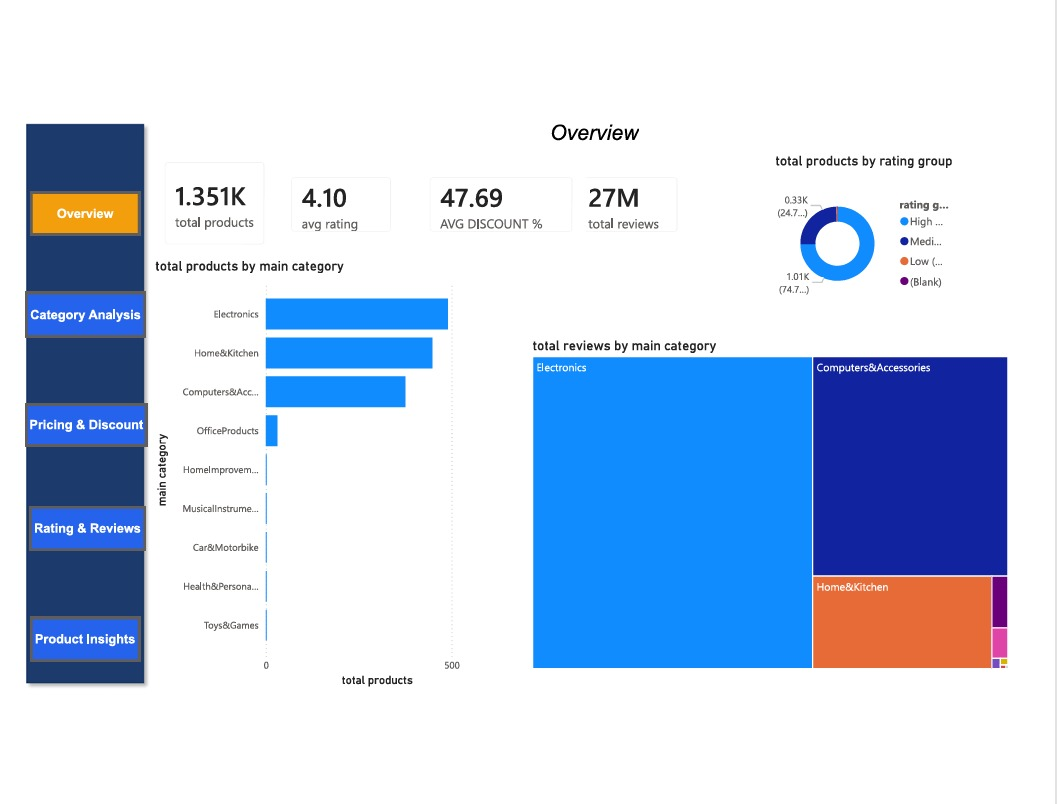

Layout of this report page (visuals, bound fields, positions):
{"tool":"powerbi","page":{"name":"Overview","canvas":[1280,720],"ordinal":0},"visuals":[{"type":"shape","box":[0,0,165.7,720],"z":0},{"type":"actionButton","box":[13.8,93.7,138.3,55.3],"z":1000},{"type":"actionButton","box":[8,219.8,151.3,57.3],"z":2000},{"type":"actionButton","box":[8,360,152.9,54.2],"z":3000},{"type":"actionButton","box":[12.7,489,146.5,55.8],"z":4000},{"type":"actionButton","box":[13.8,628.3,138.3,55.3],"z":5000},{"type":"shape","box":[165,0,1115,39.8],"z":6000},{"type":"cardVisual","fields":{"Data":["amazon.total reviews"]},"box":[685,58.9,159.3,101.9],"z":7000},{"type":"cardVisual","fields":{"Data":["amazon.AVG DISCOUNT %"]},"box":[498.6,58.9,213.5,101.9],"z":8000},{"type":"cardVisual","fields":{"Data":["amazon.avg rating"]},"box":[325,58.9,159.3,101.9],"z":9000},{"type":"cardVisual","fields":{"Data":["amazon.total products"]},"box":[165.7,39.8,159.3,137],"z":10000},{"type":"clusteredBarChart","fields":{"Category":["amazon.main category"],"Y":["amazon.total products"]},"box":[165.7,176.8,439.6,543.2],"z":11000},{"type":"donutChart","fields":{"Category":["amazon.rating group"],"Y":["amazon.total products"]},"box":[944.6,44.6,234.2,210.3],"z":12000},{"type":"treemap","fields":{"Values":["amazon.total reviews"],"Group":["amazon.main category"]},"box":[640.4,277.2,606.9,420.5],"z":13000}]}

Visuals, with their boxes on the page's 1280x720 design canvas (x1, y1, x2, y2). These are canvas units, not pixel positions in the 1057x804 screenshot, which may show the page scaled, cropped or inside an application window:
shape: 0/0/166/720
actionButton: 14/94/152/149
actionButton: 8/220/159/277
actionButton: 8/360/161/414
actionButton: 13/489/159/545
actionButton: 14/628/152/684
shape: 165/0/1280/40
cardVisual - amazon.total reviews: 685/59/844/161
cardVisual - amazon.AVG DISCOUNT %: 499/59/712/161
cardVisual - amazon.avg rating: 325/59/484/161
cardVisual - amazon.total products: 166/40/325/177
clusteredBarChart - amazon.main category x amazon.total products: 166/177/605/720
donutChart - amazon.rating group x amazon.total products: 945/45/1179/255
treemap - amazon.total reviews x amazon.main category: 640/277/1247/698
